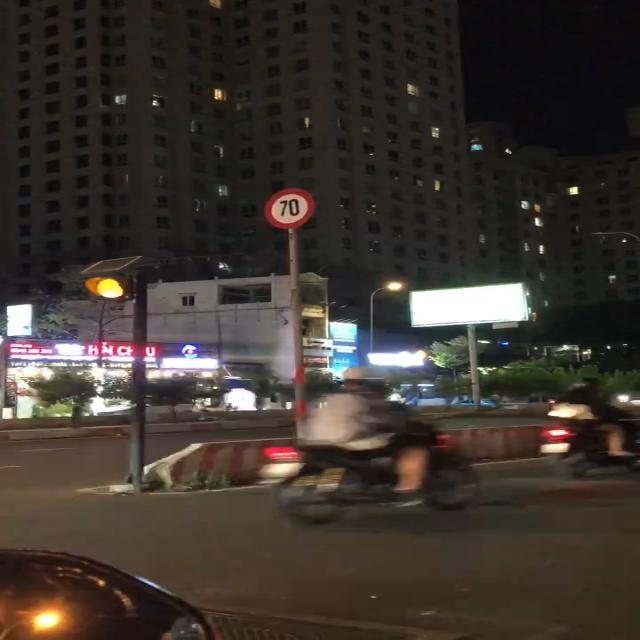Bien bao toc do toi da cho phep: (258, 182, 321, 228)
